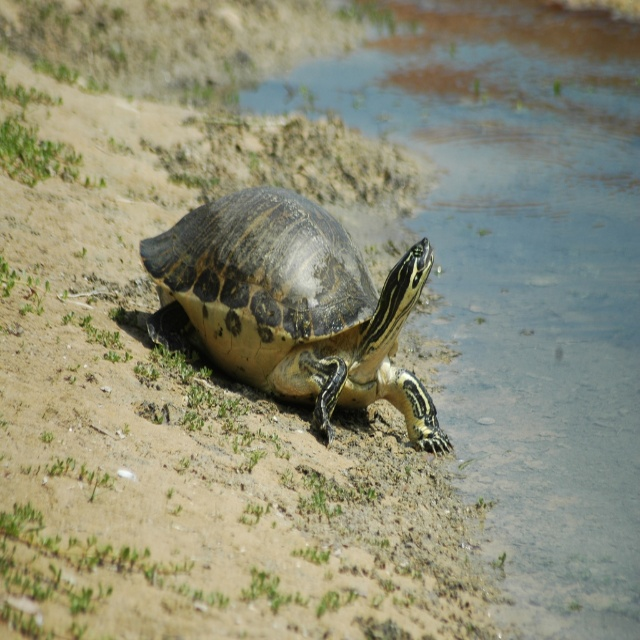Sea turtle: (130, 176, 463, 455)
